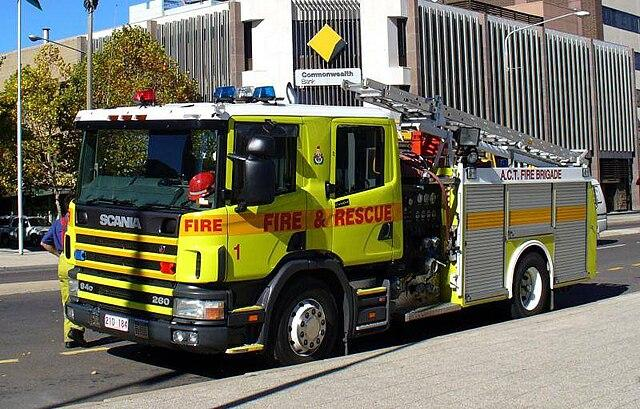firetruck_off: (62, 78, 598, 363)
